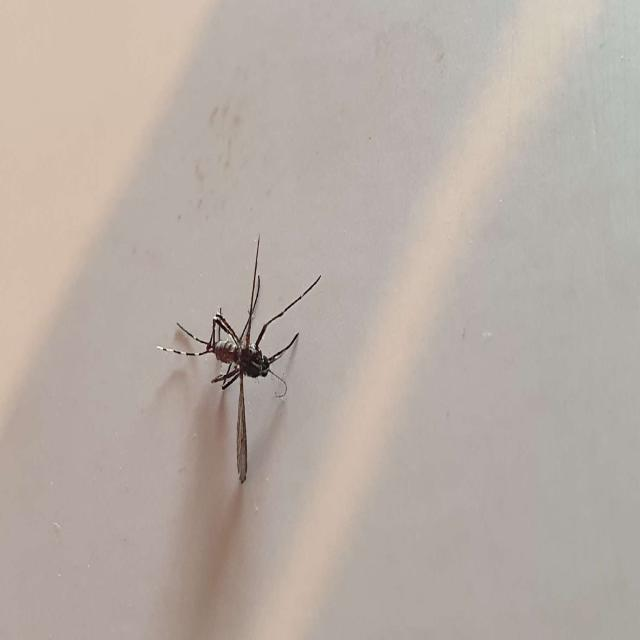albopictus: (159, 226, 313, 494)
